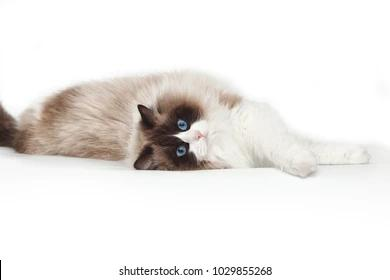ragdoll: (119, 83, 221, 188)
